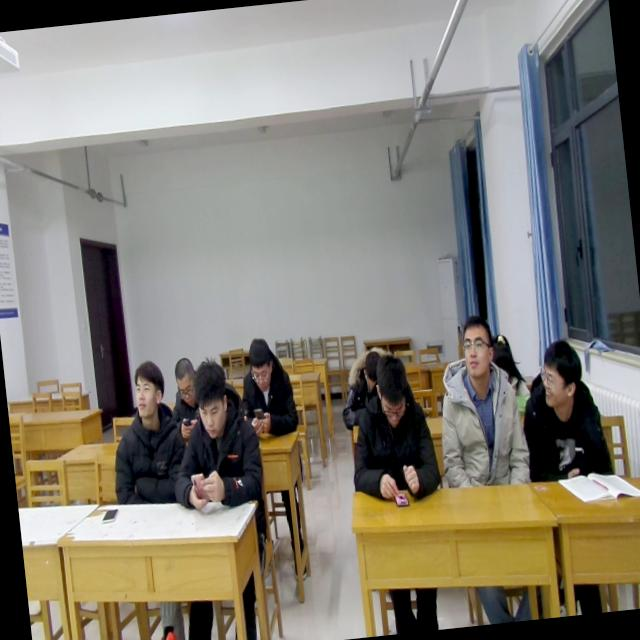bow: (234, 332, 302, 443), (333, 341, 398, 430), (488, 325, 533, 421), (167, 352, 206, 445)
down: (185, 355, 234, 444), (370, 350, 414, 430), (242, 331, 276, 395), (168, 352, 197, 406), (356, 346, 380, 386)
lookup: (450, 311, 498, 385), (126, 350, 168, 421)
sit: (426, 311, 532, 493), (158, 353, 268, 520), (340, 349, 444, 510), (514, 332, 616, 489), (100, 356, 192, 510)
